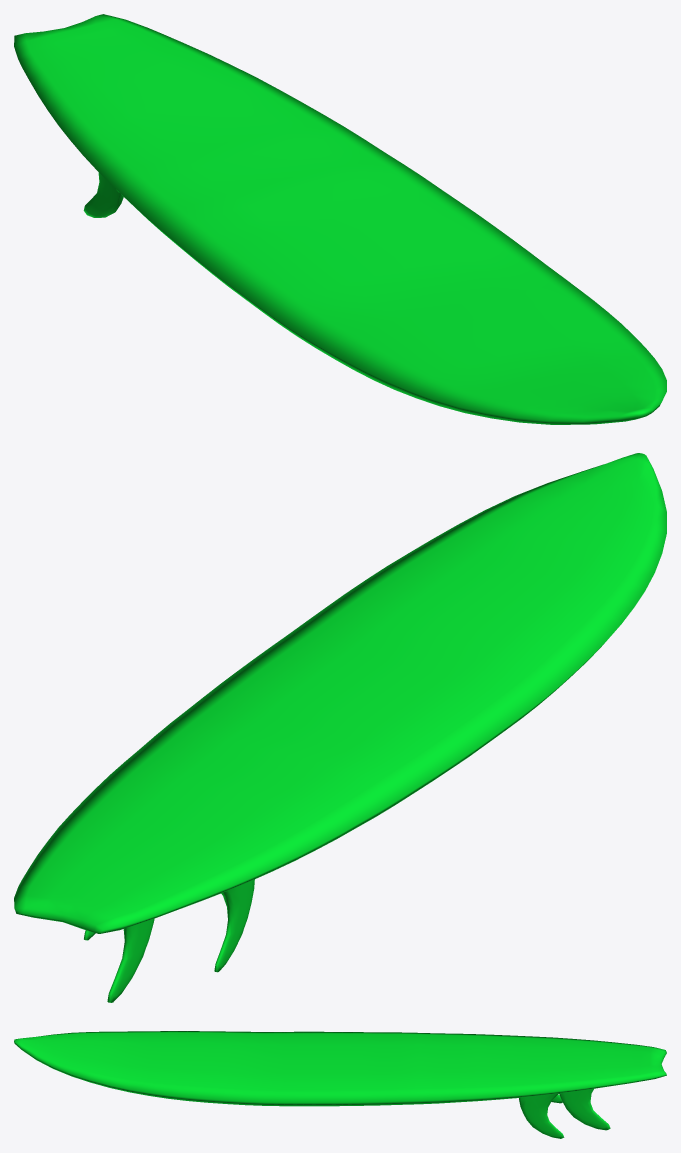
File: Surfboard.glb
3 views of the same model, one above another, from view 1: azimuth 30°, elevation 25°; view 2: azimuth 150°, elevation 25°; view 3: azimuth 270°, elevation 25° (orthographic). The views are drawn at different scales.
Visible parts, largest first — view 1: Cube.001; view 2: Cube.001; view 3: Cube.001.
Part boxes in pixels (left/top/right/bottom): Cube.001: left=14, top=14, right=666, bottom=424; Cube.001: left=14, top=453, right=666, bottom=1002; Cube.001: left=14, top=1031, right=666, bottom=1138.
Bounding box in the file's own units: 1.17 × 0.696 × 4.57.
